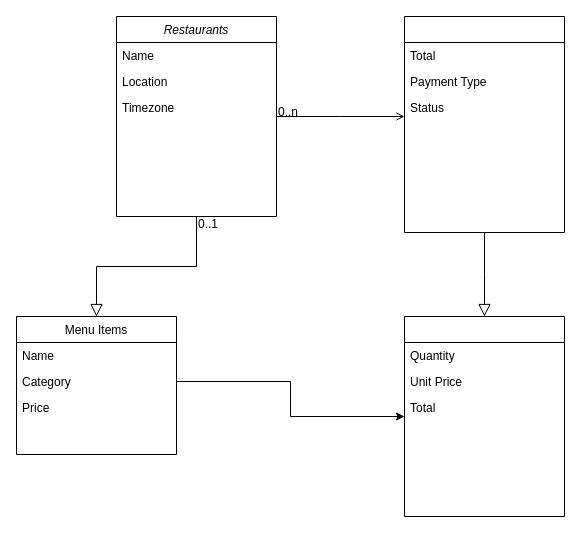
Some shapes in this 581 by 533 pixel diagram are drawn without their labels. Each missing label, with the box of its shape:
Order Items: (404, 316, 564, 516)
Orders: (404, 16, 564, 232)
